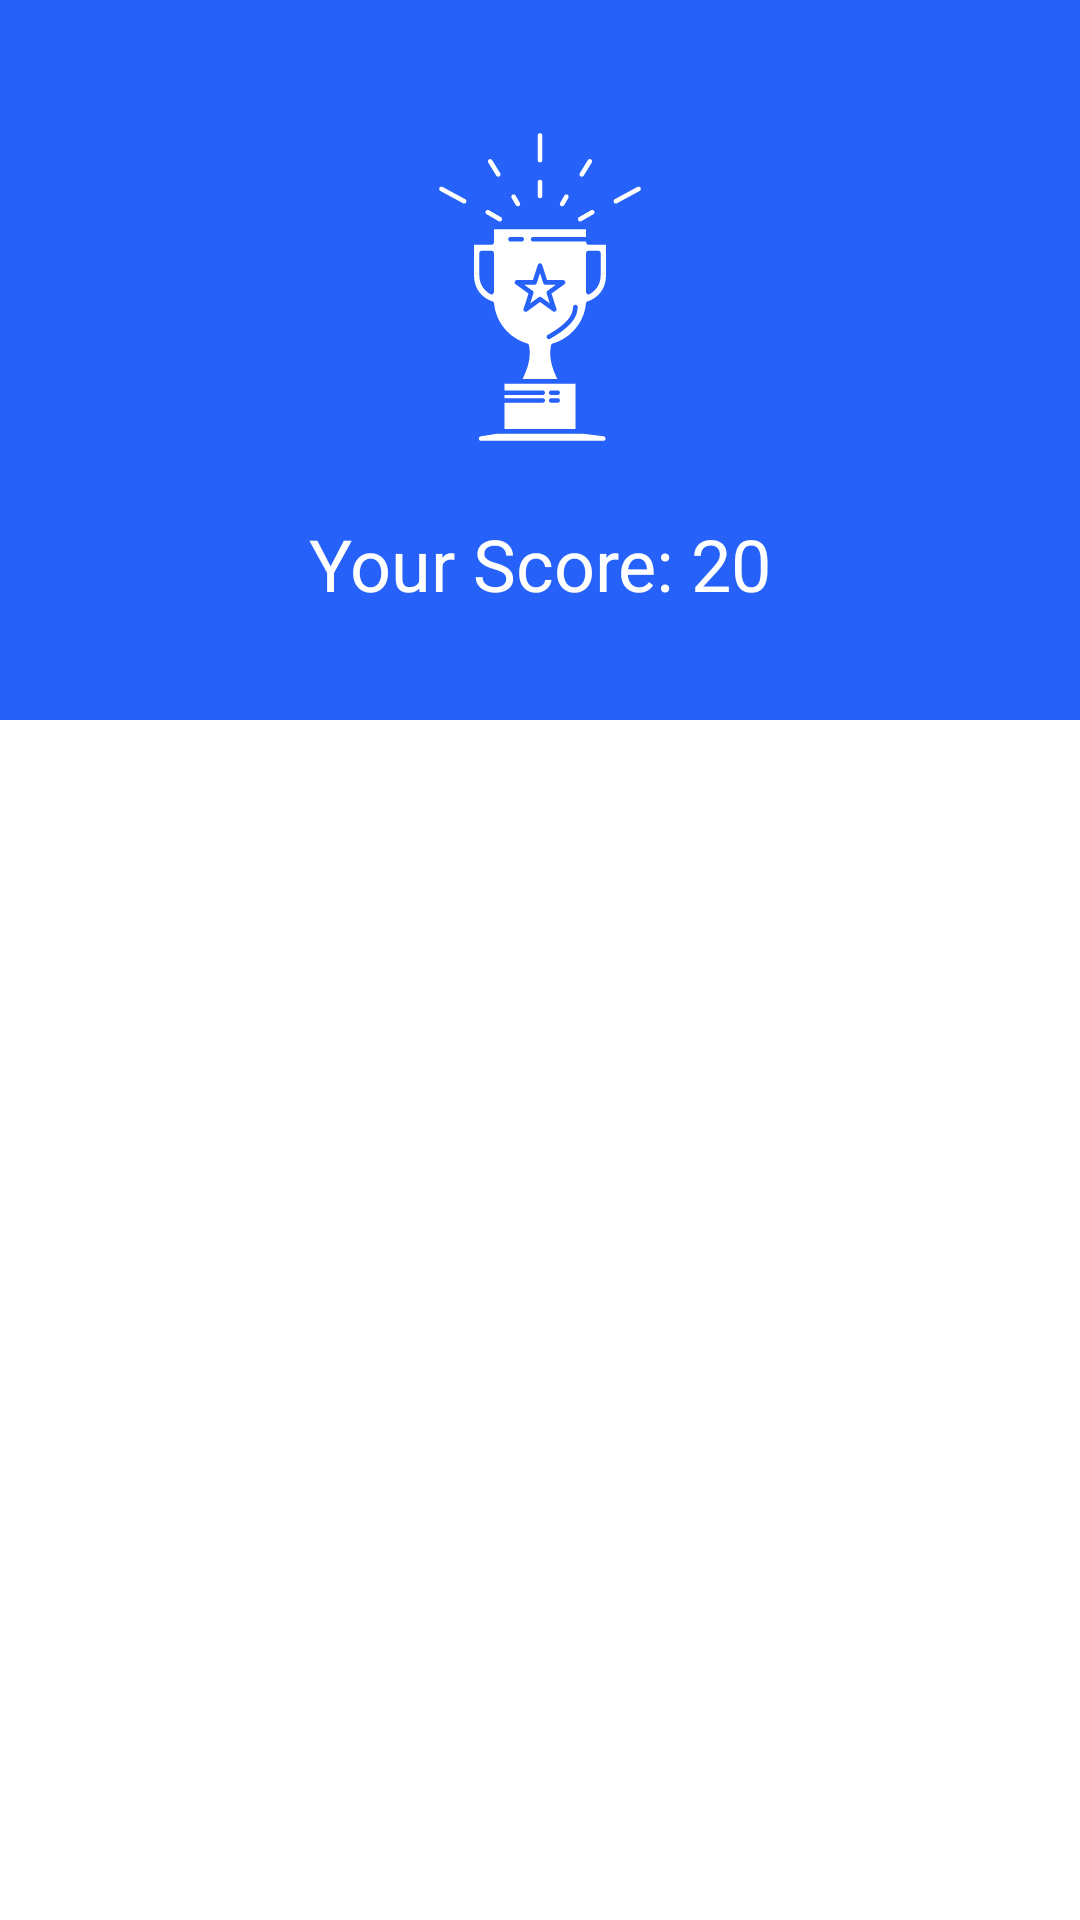

Screen size 1080 × 1920. Icon name, then its box in pixels as (x1=x1, y1=y1, x2=x2, y2=y2):
trophy: (x1=439, y1=133, x2=641, y2=441)
